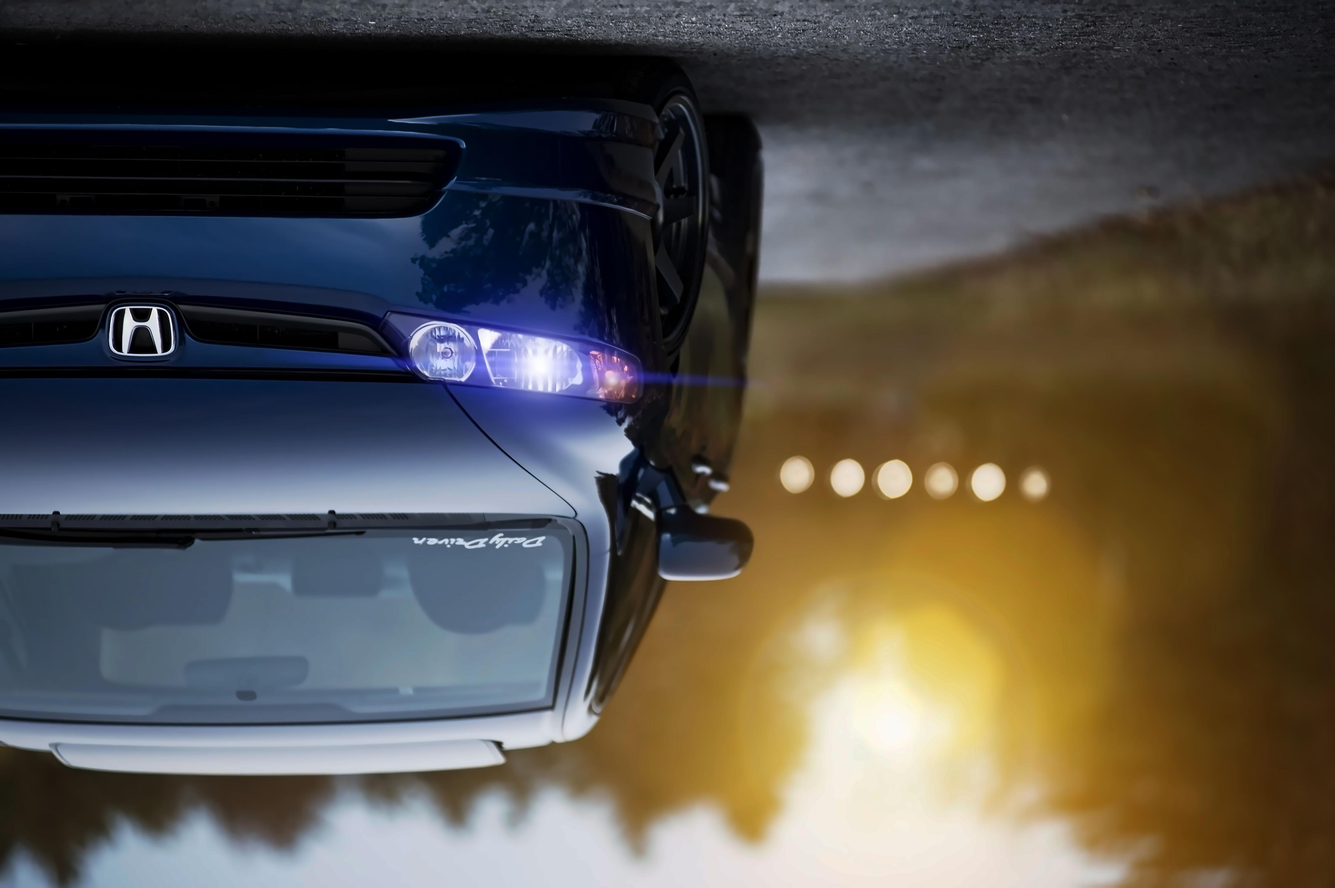Car hood: (0, 365, 577, 547)
Front bumper: (0, 25, 662, 314)
Headlight - -R-: (375, 303, 647, 417)
Side bumper - -R-: (662, 160, 780, 367)
Side mirror - -R-: (651, 514, 756, 587)
